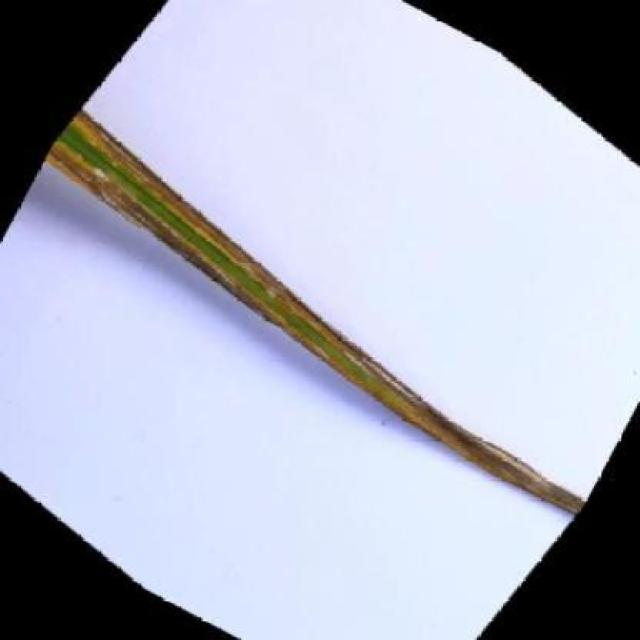Rice False Smut: (14, 107, 637, 518)
